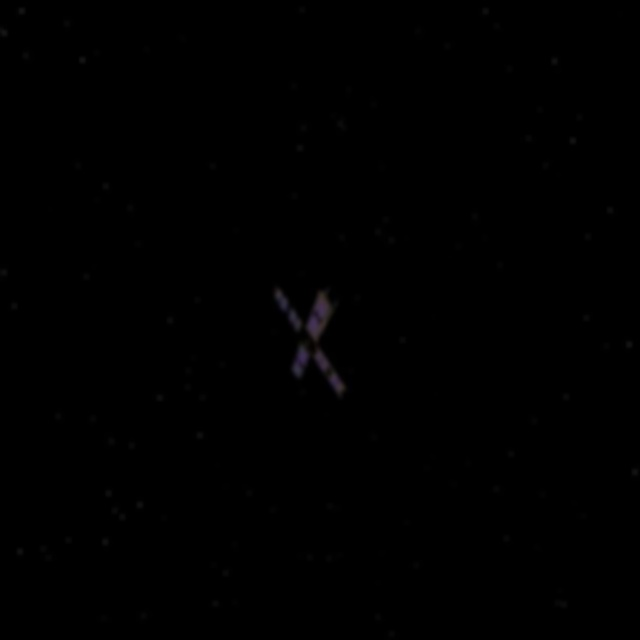satellite: (263, 271, 350, 409)
